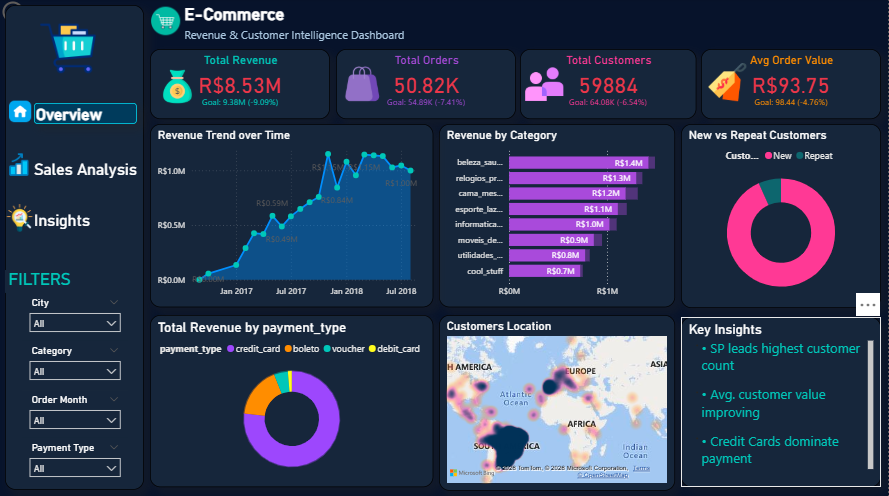

Layout of this report page (visuals, bound fields, positions):
{"tool":"powerbi","page":{"name":"Overview","canvas":[1280,720],"ordinal":0},"visuals":[{"type":"actionButton","box":[0,0,100,40],"z":0},{"type":"shape","title":"E-Commerce Revenue & Customer Intelligence Dashboard","box":[8.6,10.1,200.2,698.4],"z":1000},{"type":"textbox","title":"      E-Commerce ","box":[262.1,10.1,793.4,138.2],"z":2000},{"type":"kpi","title":"Total Revenue","fields":{"Indicator":["ecommerce_final.Total Revenue"],"Goal":["ecommerce_final.Revenue Target"],"TrendLine":["ecommerce_final.order_purchase_timestamp.Variation.Date Hierarchy.Year"]},"box":[217.7,73.5,259.5,100.9],"z":3000},{"type":"kpi","title":"Total Orders ","fields":{"TrendLine":["ecommerce_final.order_purchase_timestamp.Variation.Date Hierarchy.Year"],"Indicator":["ecommerce_final.Total Orders"],"Goal":["ecommerce_final.Target Orders"]},"box":[485,73.5,259.5,100.9],"z":4000},{"type":"kpi","title":"Total Customers ","fields":{"Indicator":["ecommerce_intelligence.Total Customers"],"TrendLine":["ecommerce_final.order_purchase_timestamp.Variation.Date Hierarchy.Year"],"Goal":["ecommerce_final.Target Customers"]},"box":[750,73.5,253.7,100.9],"z":5000},{"type":"kpi","title":"Avg Order Value ","fields":{"Indicator":["ecommerce_final.Avg Order Value"],"TrendLine":["ecommerce_final.order_purchase_timestamp"],"Goal":["ecommerce_final.Order value target"]},"box":[1010.5,73.5,259.5,100.9],"z":6000},{"type":"barChart","title":"Revenue by Category","fields":{"Y":["ecommerce_intelligence.Total Revenue"],"Category":["ecommerce_intelligence.product_category_name"]},"box":[633.5,181.6,340,264.4],"z":7000},{"type":"donutChart","fields":{"Y":["ecommerce_intelligence.Total Revenue"],"Category":["ecommerce_intelligence.payment_type"]},"box":[217.9,456.2,408.3,248.4],"z":8000},{"type":"image","box":[217.7,10.1,44.7,46.1],"z":9000},{"type":"lineChart","title":"Revenue Trend over Time","fields":{"Y":["ecommerce_final.Total Revenue"],"Category":["ecommerce_final.order_purchase_timestamp.Variation.Date Hierarchy.Year","ecommerce_final.order_purchase_timestamp.Variation.Date Hierarchy.Month"]},"box":[217.9,181.6,408.3,264.4],"z":10000},{"type":"slicer","title":"Order Month","fields":{"Values":["ecommerce_final.order_purchase_timestamp.Variation.Date Hierarchy.Month"]},"box":[33.1,564.5,152.6,69.1],"z":11000},{"type":"slicer","fields":{"Values":["ecommerce_final.product_category_name"]},"box":[33.1,493.9,152.6,70.6],"z":12000},{"type":"slicer","fields":{"Values":["ecommerce_final.payment_type"]},"box":[33.1,633.6,152.6,70.6],"z":13000},{"type":"slicer","fields":{"Values":["ecommerce_final.customer_city"]},"box":[33.1,424.8,152.6,69.1],"z":14000},{"type":"actionButton","title":"Overview","box":[50.4,151.2,148.3,30.2],"z":15000},{"type":"actionButton","title":"Sales Analysis","box":[50.4,233.3,148.3,28.8],"z":16000},{"type":"textbox","title":"FILTERS","box":[8.6,391.7,105.1,33.1],"z":17000},{"type":"actionButton","title":"Insights","box":[50.4,306.7,151.2,30.2],"z":18000},{"type":"image","box":[53.3,33.1,92.2,79.2],"z":19000},{"type":"image","box":[14.4,136.8,31.7,53.3],"z":20000},{"type":"image","box":[10.1,207.4,37.4,64.8],"z":21000},{"type":"image","box":[8.6,296.6,41.8,40.3],"z":22000},{"type":"image","box":[229,96.5,56.2,61.9],"z":23000},{"type":"image","box":[489.6,96.5,67.7,54.7],"z":24000},{"type":"image","box":[751.7,96.5,67.7,54.7],"z":25000},{"type":"image","box":[1015.2,93.6,67.7,54.7],"z":26000},{"type":"map","title":"Customers Location","fields":{"Category":["ecommerce_final.customer_city"]},"box":[633.5,456.2,340,252.8],"z":27000},{"type":"donutChart","title":"New vs Repeat Customers","fields":{"Category":["ecommerce_final.Customer Type"],"Y":["ecommerce_final.Total Customers"]},"box":[982.1,181.4,288,265],"z":27001},{"type":"textbox","title":"Key Insights","box":[982.1,459.4,288,244.8],"z":27002}]}

Visuals, with their boxes on the page's 1280x720 design canvas (x1, y1, x2, y2). These are canvas units, not pixel positions in the 889x496 screenshot, which may show the page scaled, cropped or inside an application window:
actionButton: {"x1": 0, "y1": 0, "x2": 100, "y2": 40}
"E-Commerce Revenue & Customer Intelligence Dashboard" shape: {"x1": 9, "y1": 10, "x2": 209, "y2": 708}
"      E-Commerce " textbox: {"x1": 262, "y1": 10, "x2": 1056, "y2": 148}
"Total Revenue" kpi: {"x1": 218, "y1": 74, "x2": 477, "y2": 174}
"Total Orders " kpi: {"x1": 485, "y1": 74, "x2": 744, "y2": 174}
"Total Customers " kpi: {"x1": 750, "y1": 74, "x2": 1004, "y2": 174}
"Avg Order Value " kpi: {"x1": 1010, "y1": 74, "x2": 1270, "y2": 174}
"Revenue by Category" barChart: {"x1": 634, "y1": 182, "x2": 974, "y2": 446}
donutChart - ecommerce_intelligence.Total Revenue x ecommerce_intelligence.payment_type: {"x1": 218, "y1": 456, "x2": 626, "y2": 705}
image: {"x1": 218, "y1": 10, "x2": 262, "y2": 56}
"Revenue Trend over Time" lineChart: {"x1": 218, "y1": 182, "x2": 626, "y2": 446}
"Order Month" slicer: {"x1": 33, "y1": 564, "x2": 186, "y2": 634}
slicer - ecommerce_final.product_category_name: {"x1": 33, "y1": 494, "x2": 186, "y2": 564}
slicer - ecommerce_final.payment_type: {"x1": 33, "y1": 634, "x2": 186, "y2": 704}
slicer - ecommerce_final.customer_city: {"x1": 33, "y1": 425, "x2": 186, "y2": 494}
"Overview" actionButton: {"x1": 50, "y1": 151, "x2": 199, "y2": 181}
"Sales Analysis" actionButton: {"x1": 50, "y1": 233, "x2": 199, "y2": 262}
"FILTERS" textbox: {"x1": 9, "y1": 392, "x2": 114, "y2": 425}
"Insights" actionButton: {"x1": 50, "y1": 307, "x2": 202, "y2": 337}
image: {"x1": 53, "y1": 33, "x2": 146, "y2": 112}
image: {"x1": 14, "y1": 137, "x2": 46, "y2": 190}
image: {"x1": 10, "y1": 207, "x2": 48, "y2": 272}
image: {"x1": 9, "y1": 297, "x2": 50, "y2": 337}
image: {"x1": 229, "y1": 96, "x2": 285, "y2": 158}
image: {"x1": 490, "y1": 96, "x2": 557, "y2": 151}
image: {"x1": 752, "y1": 96, "x2": 819, "y2": 151}
image: {"x1": 1015, "y1": 94, "x2": 1083, "y2": 148}
"Customers Location" map: {"x1": 634, "y1": 456, "x2": 974, "y2": 709}
"New vs Repeat Customers" donutChart: {"x1": 982, "y1": 181, "x2": 1270, "y2": 446}
"Key Insights" textbox: {"x1": 982, "y1": 459, "x2": 1270, "y2": 704}
